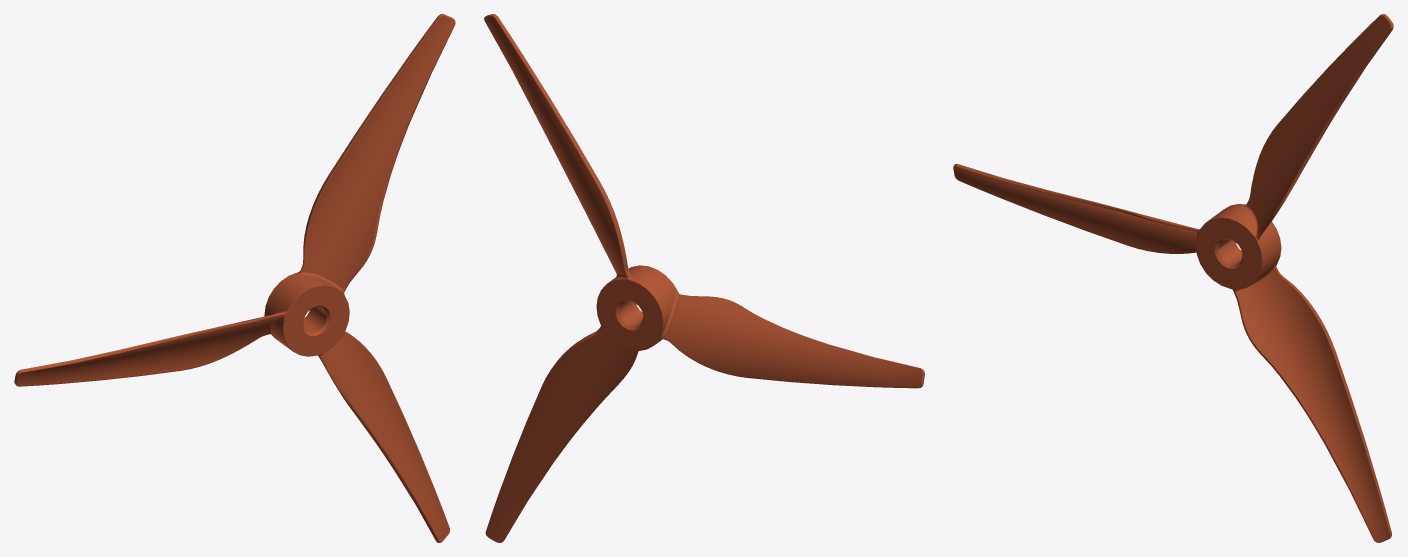
Rendered from propeller.glb.
3 views of the same model, side by side, from view 1: azimuth 30°, elevation 25°; view 2: azimuth 150°, elevation 25°; view 3: azimuth 330°, elevation 25° (orthographic).
Parts seen in each view (by area): view 1: пропеллер1.001; view 2: пропеллер1.001; view 3: пропеллер1.001.
Boxes of the visible parts, x1,y1,x2,y2 form: пропеллер1.001: [14, 14, 455, 542]; пропеллер1.001: [484, 14, 924, 542]; пропеллер1.001: [953, 14, 1393, 542].
Size of the model in its own units: 0.0916 by 0.105 by 0.00854.
